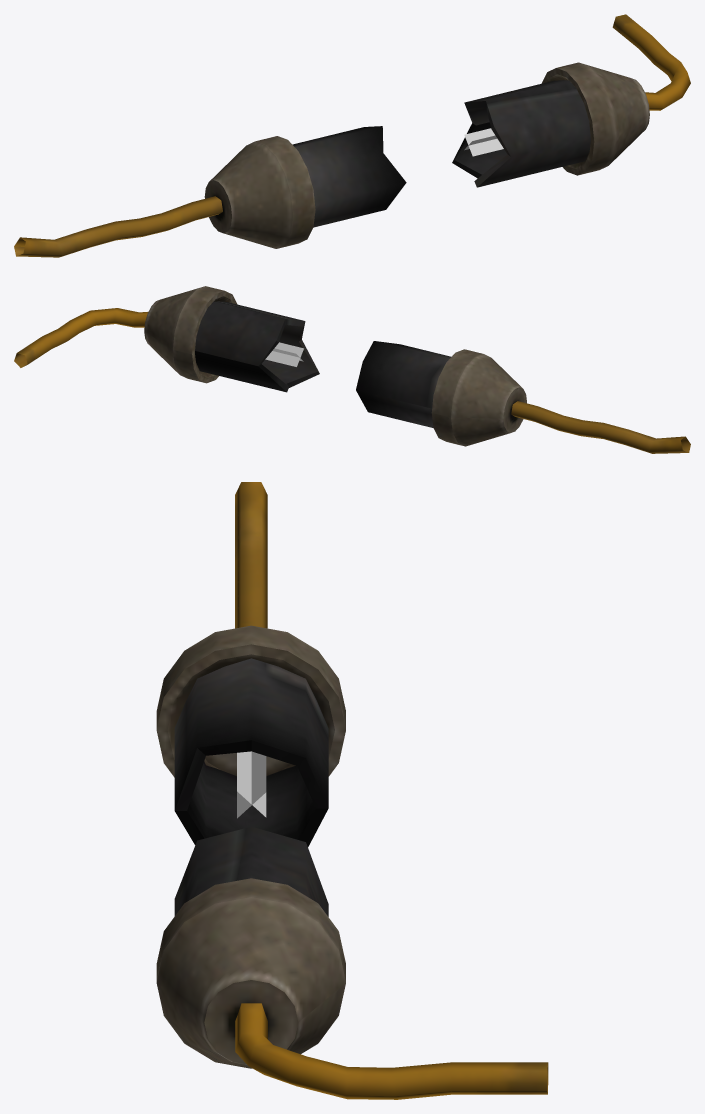
Rendered from substation_powerpanel_fuse_side_broken.dae.
3 views of the same model, one above another, from view 1: azimuth 30°, elevation 25°; view 2: azimuth 150°, elevation 25°; view 3: azimuth 270°, elevation 25° (orthographic). The views are drawn at different scales.
Visible parts, largest first — view 1: polySurface504, pCylinder77, polySurface155; view 2: polySurface504, pCylinder77, polySurface155; view 3: polySurface504, pCylinder77, polySurface155.
Boxes of the visible parts, left/top/right/bottom form: polySurface504: left=14, top=14, right=690, bottom=257; pCylinder77: left=292, top=80, right=590, bottom=227; polySurface155: left=464, top=128, right=503, bottom=156; polySurface504: left=14, top=286, right=690, bottom=453; pCylinder77: left=195, top=301, right=451, bottom=427; polySurface155: left=265, top=342, right=303, bottom=366; polySurface504: left=156, top=482, right=548, bottom=1099; pCylinder77: left=174, top=658, right=328, bottom=916; polySurface155: left=237, top=751, right=266, bottom=818.
Size of the model in its own units: 0.1609 by 0.022 by 0.0454.
